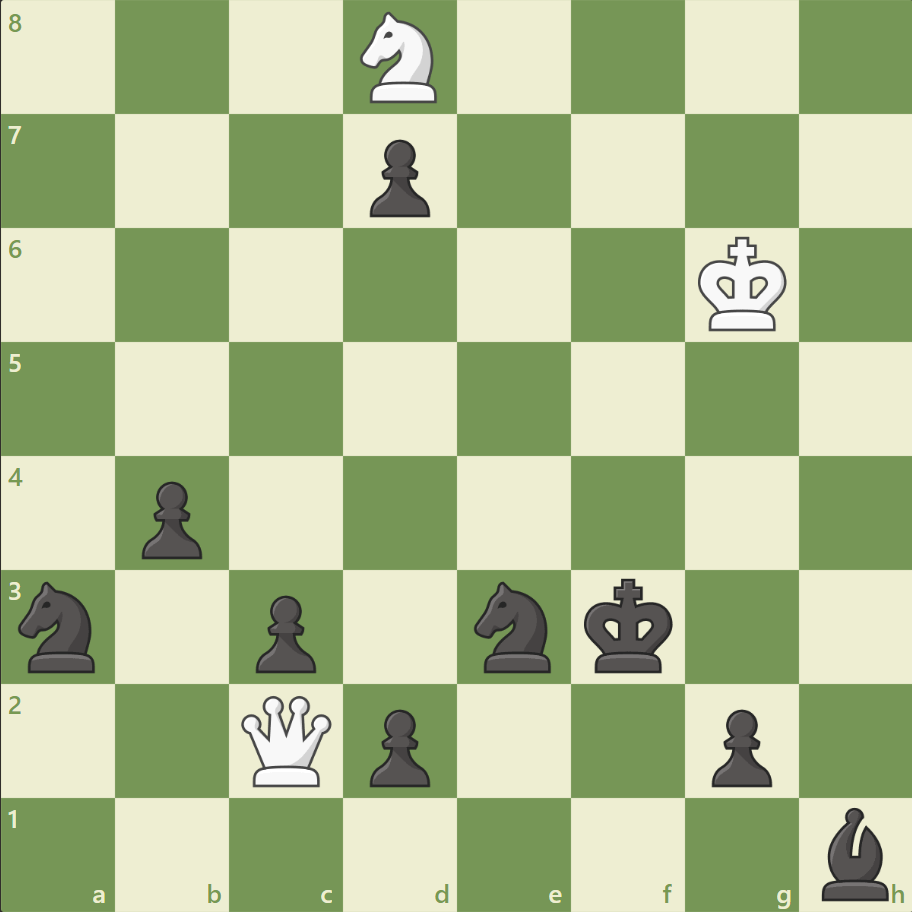K: (692, 231, 792, 339)
N: (351, 7, 449, 110)
Q: (237, 690, 336, 789)
b: (812, 801, 896, 904)
k: (579, 571, 679, 679)
n: (11, 575, 108, 677), (465, 575, 562, 677)
p: (133, 473, 208, 564), (247, 586, 322, 677), (701, 700, 776, 791), (361, 132, 435, 223), (361, 700, 435, 791)
